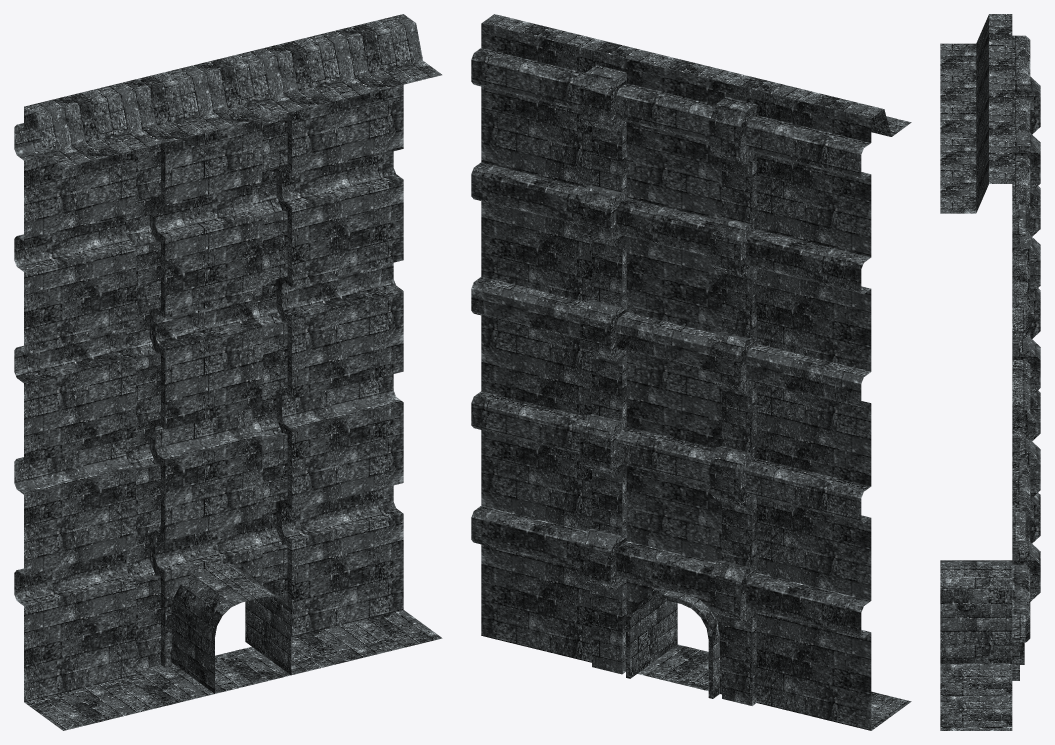
File: WallWithGate.fbx
3 renders of one model, left to right at view 1: azimuth 30°, elevation 25°; view 2: azimuth 150°, elevation 25°; view 3: azimuth 270°, elevation 25°, orthographic. The views are drawn at different scales.
Parts seen in each view (by area): view 1: WallWithDoor; view 2: WallWithDoor; view 3: WallWithDoor.
Boxes of the visible parts, x1,y1,x2,y2 form: WallWithDoor: (14, 14, 442, 730); WallWithDoor: (471, 14, 911, 730); WallWithDoor: (940, 14, 1040, 730).
Size of the model in its own units: 2500 by 3750 by 625.
1 material, 1 textured.
